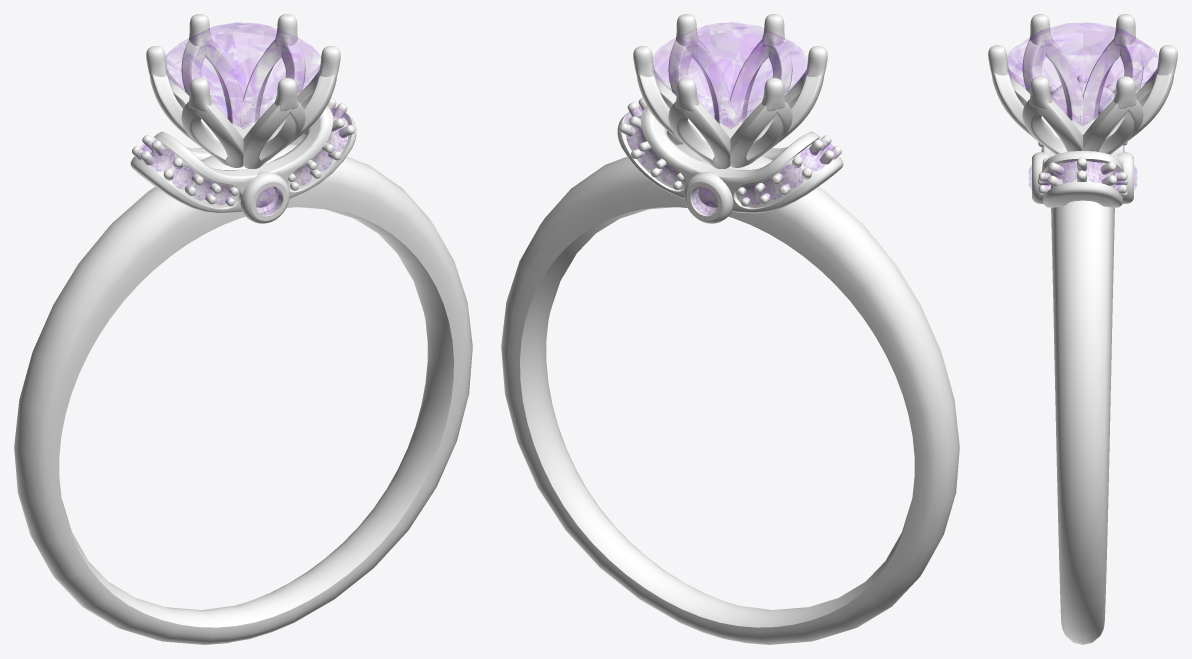
Rendered from ring3.glb.
3 renders of one model, left to right at view 1: azimuth 30°, elevation 25°; view 2: azimuth 150°, elevation 25°; view 3: azimuth 270°, elevation 25°, orthographic. The views are drawn at different scales.
Size of the model in its own units: 2.2 by 2.77 by 0.8205.
Materials: 3 (1 with a texture image).
